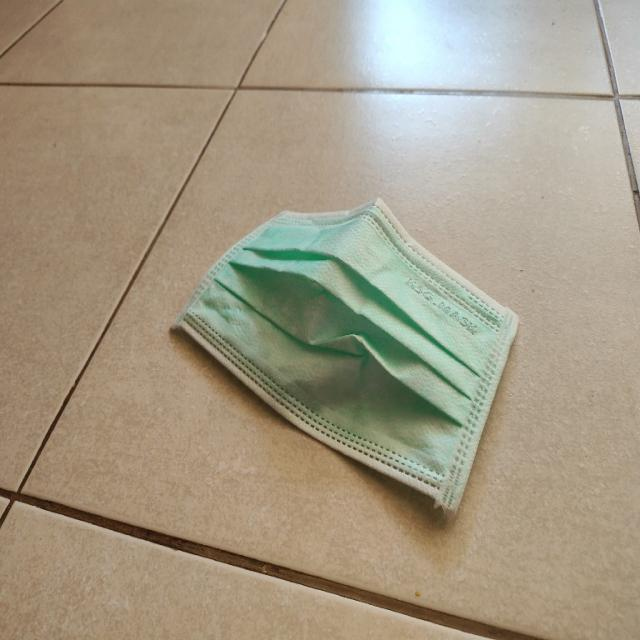non-organic waste: (173, 200, 519, 515)
